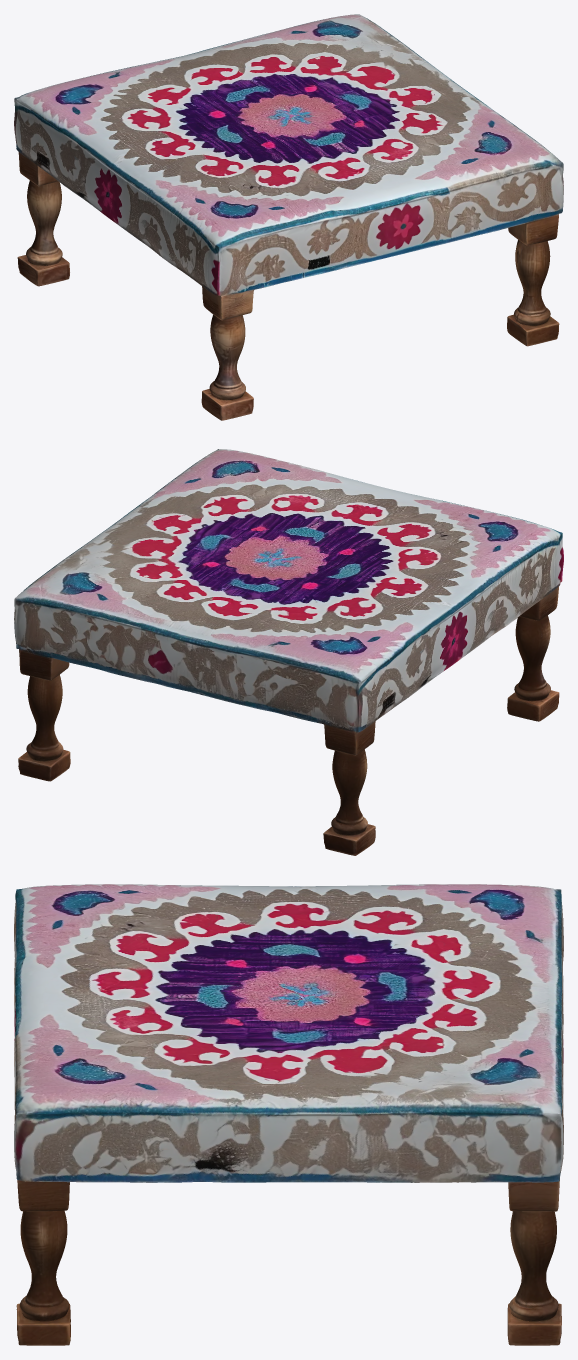
The picture shows the model from 3 angles, top to bottom: view 1: azimuth 30°, elevation 25°; view 2: azimuth 150°, elevation 25°; view 3: azimuth 270°, elevation 25°; orthographic projection. The views are drawn at different scales.
Visible parts, largest first — view 1: model; view 2: model; view 3: model.
Boxes of the visible parts, left/top/right/bottom form: model: left=14, top=14, right=563, bottom=420; model: left=14, top=449, right=563, bottom=855; model: left=14, top=884, right=563, bottom=1345.
Bounding box in the file's own units: 0.9014 × 0.46 × 0.9233.
Materials: 1 (1 with a texture image).
